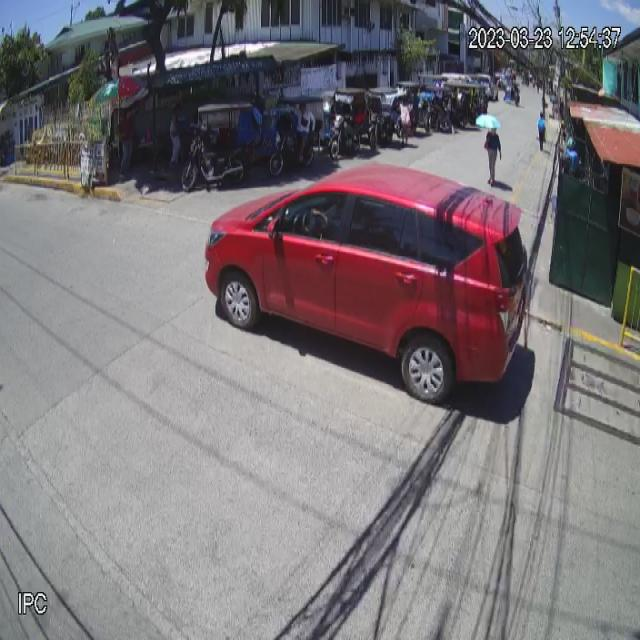Car: (204, 159, 528, 404)
